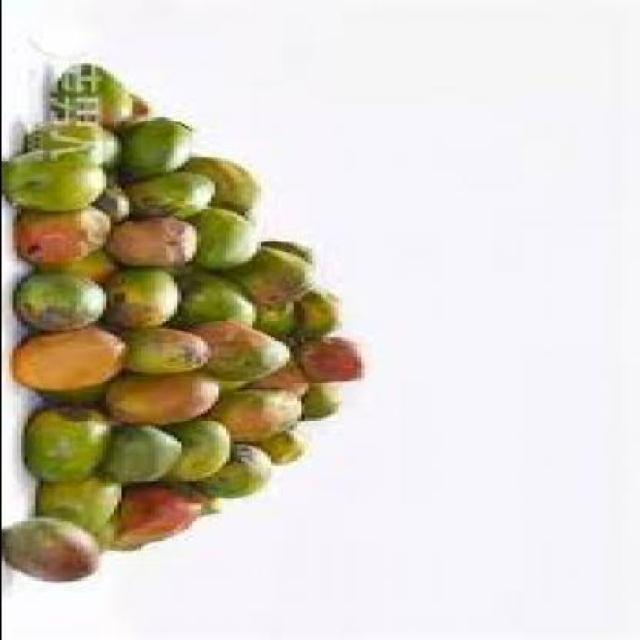BIODEGRADABLE: (19, 327, 127, 390), (26, 402, 112, 481), (4, 518, 105, 584), (104, 483, 202, 551), (34, 474, 128, 538), (104, 371, 224, 420), (7, 150, 108, 207), (202, 315, 292, 377), (213, 388, 307, 444), (56, 61, 139, 124), (18, 274, 112, 329), (23, 205, 112, 263), (109, 264, 183, 328), (195, 439, 278, 495), (190, 205, 262, 269), (22, 124, 120, 171), (243, 244, 314, 307), (180, 270, 258, 327), (109, 420, 180, 482), (106, 215, 194, 263), (127, 325, 213, 372), (187, 156, 258, 212), (131, 170, 217, 216), (124, 116, 194, 172), (165, 420, 232, 478), (307, 336, 367, 378), (292, 286, 341, 334), (42, 250, 112, 281), (246, 366, 311, 396), (292, 384, 345, 418), (248, 305, 303, 337), (262, 427, 303, 461), (273, 239, 315, 264), (112, 95, 150, 120)
